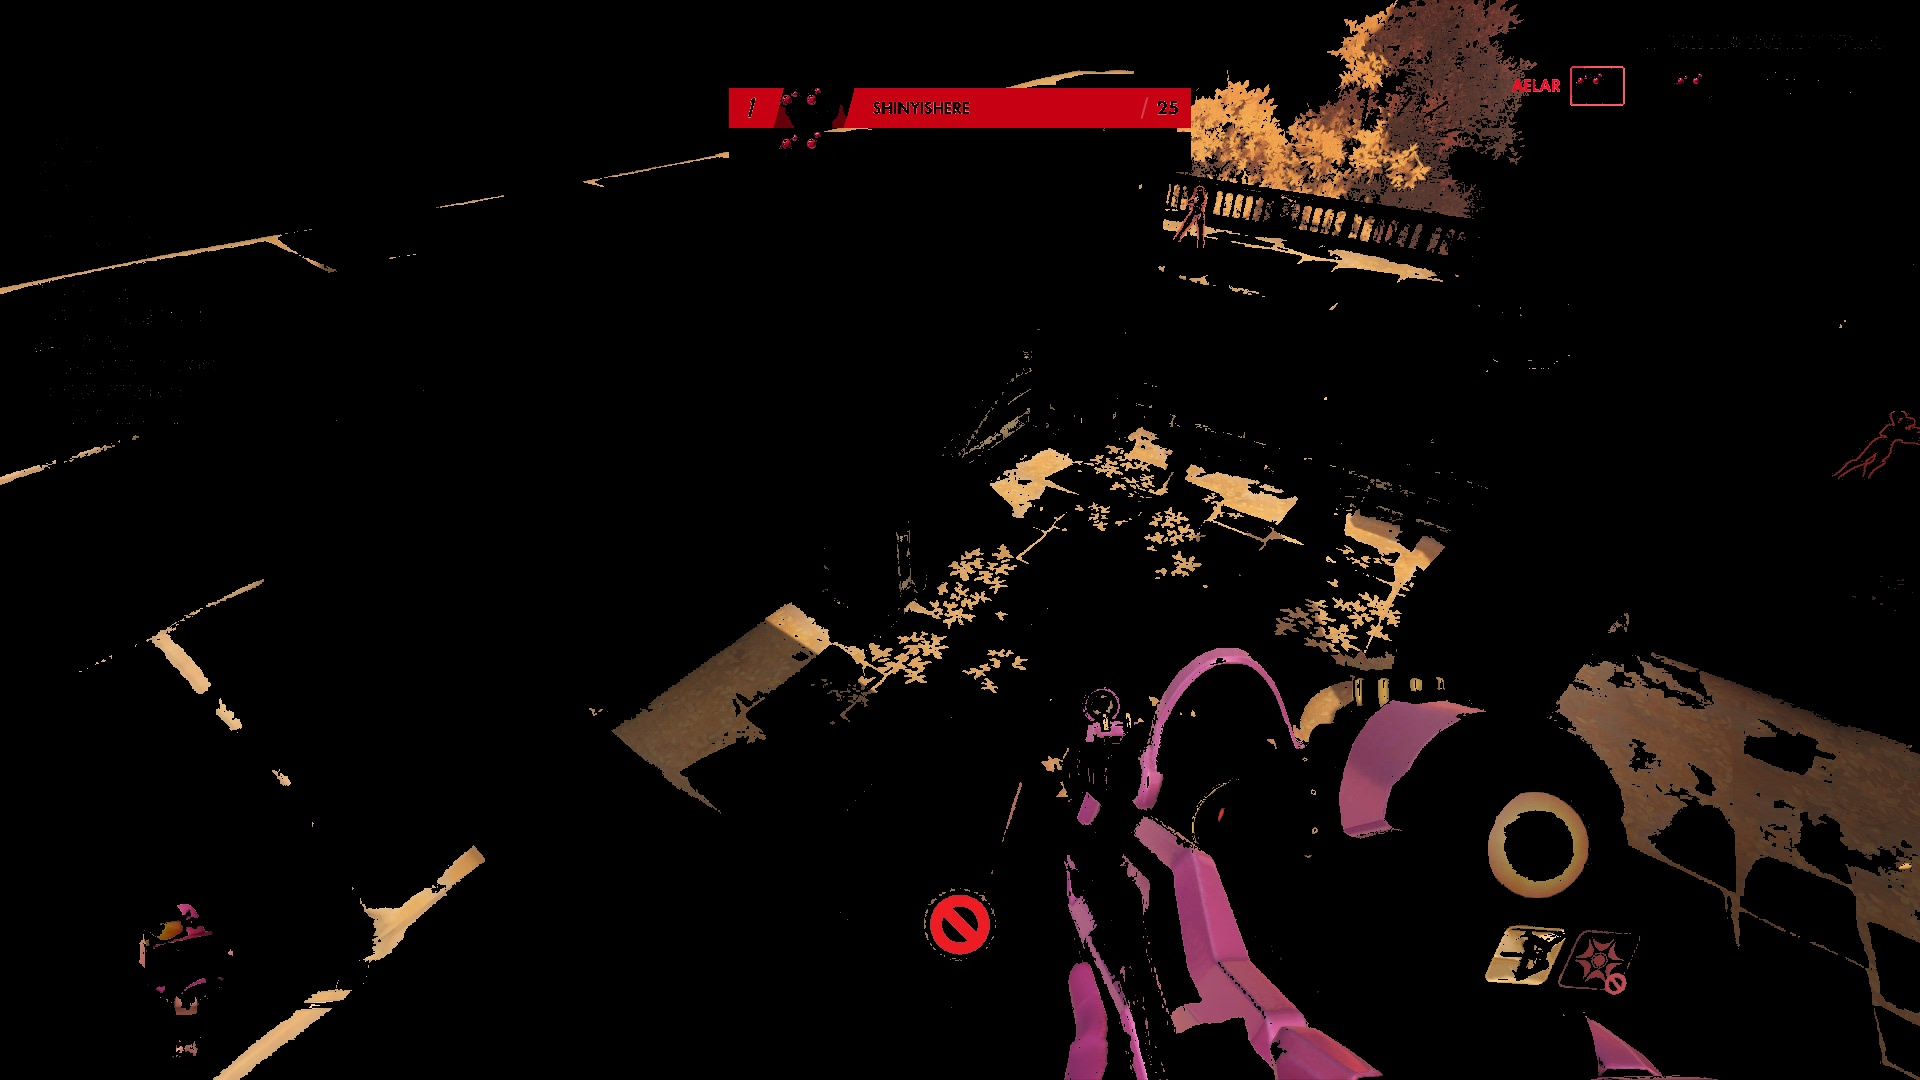widowmaker: (1832, 407, 1920, 481), (1178, 186, 1212, 253)
